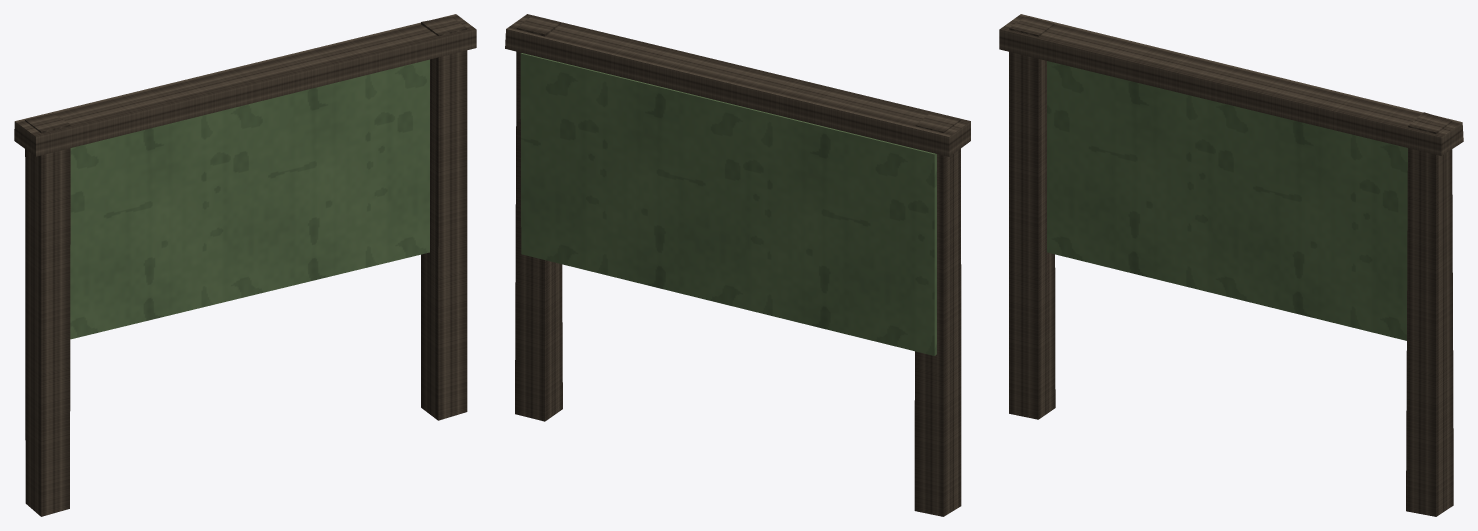
File: region_sign.glb
3 views of the same model, side by side, from view 1: azimuth 30°, elevation 25°; view 2: azimuth 150°, elevation 25°; view 3: azimuth 330°, elevation 25° (orthographic).
Parts seen in each view (by area): view 1: Board, RegionSign; view 2: Board, RegionSign; view 3: Board, RegionSign.
Part boxes in pixels (x1,y1,x2,y2): Board: (70,59,429,339); RegionSign: (14,14,476,516); Board: (520,53,936,355); RegionSign: (505,14,970,516); Board: (1047,61,1407,340); RegionSign: (999,14,1463,516).
Size of the model in its own units: 1.68 by 1.4 by 0.1431.
Materials: 2 (2 with a texture image).
